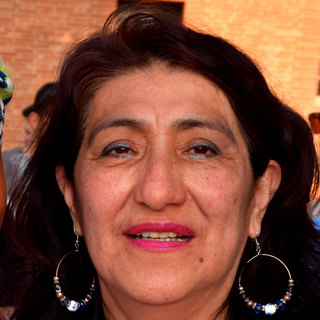eye: (179, 138, 225, 163), (95, 139, 142, 163)
